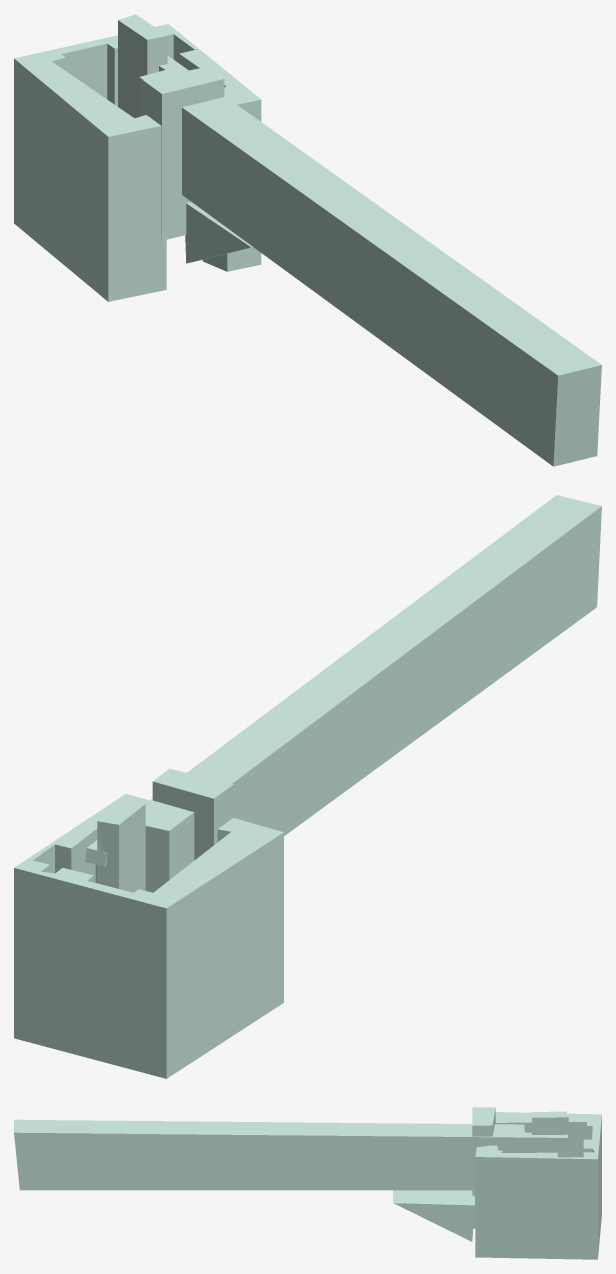
The picture shows the model from 3 angles, top to bottom: view 1: azimuth 30°, elevation 25°; view 2: azimuth 150°, elevation 25°; view 3: azimuth 270°, elevation 25°; orthographic projection. The views are drawn at different scales.
Parts seen in each view (by area): view 1: Renderer Node; view 2: Renderer Node; view 3: Renderer Node.
Boxes of the visible parts, x1,y1,x2,y2 form: Renderer Node: [14, 14, 601, 466]; Renderer Node: [14, 495, 601, 1078]; Renderer Node: [14, 1107, 601, 1259].
Bounding box in the file's own units: 0.2867 × 0.3516 × 1.49.
